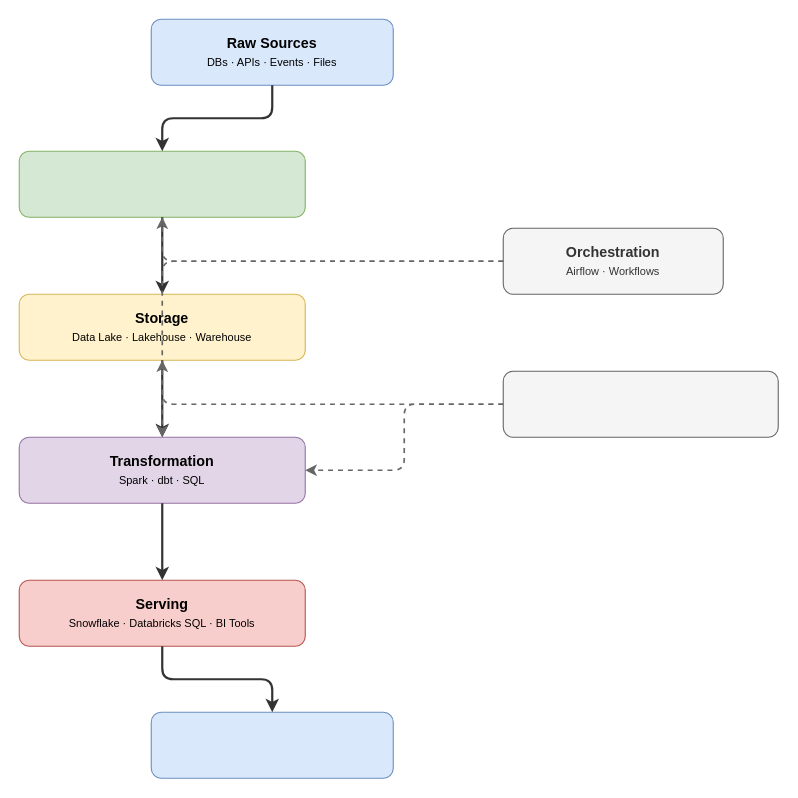
Some shapes in this 798 by 798 pixel diagram are drawn without their labels. The centre of each missing label's shape, as x and y in pixels:
"Consumers Analysts · Scientists · Apps" belongs at point (271, 744).
"Governance & Quality Unity Catalog · Great Expectations" belongs at point (640, 403).
"Ingestion Fivetran · Airbyte · Kafka · Debezium" belongs at point (161, 183).
